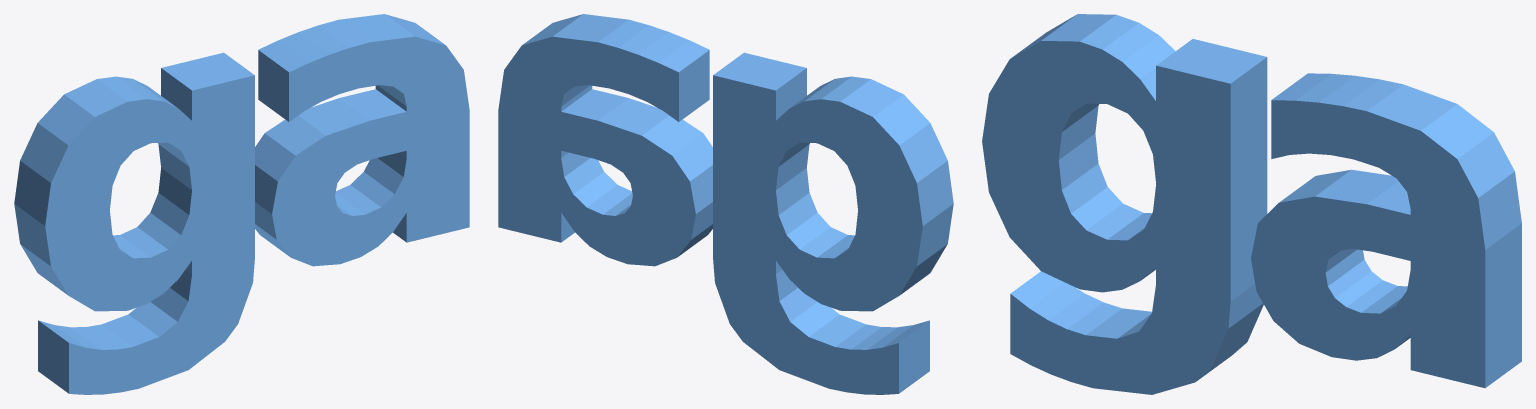
The model's file is suku_kecil_ga.glb.
The picture shows the model from 3 angles, left to right: view 1: azimuth 30°, elevation 25°; view 2: azimuth 150°, elevation 25°; view 3: azimuth 330°, elevation 25°; orthographic projection. The views are drawn at different scales.
Parts seen in each view (by area): view 1: geometry_0; view 2: geometry_0; view 3: geometry_0.
Boxes of the visible parts, <box> form: geometry_0: <box>14,14,469,394</box>; geometry_0: <box>498,14,953,394</box>; geometry_0: <box>982,14,1521,394</box>.
Bounding box in the file's own units: 11.88 × 7.76 × 1.5.
